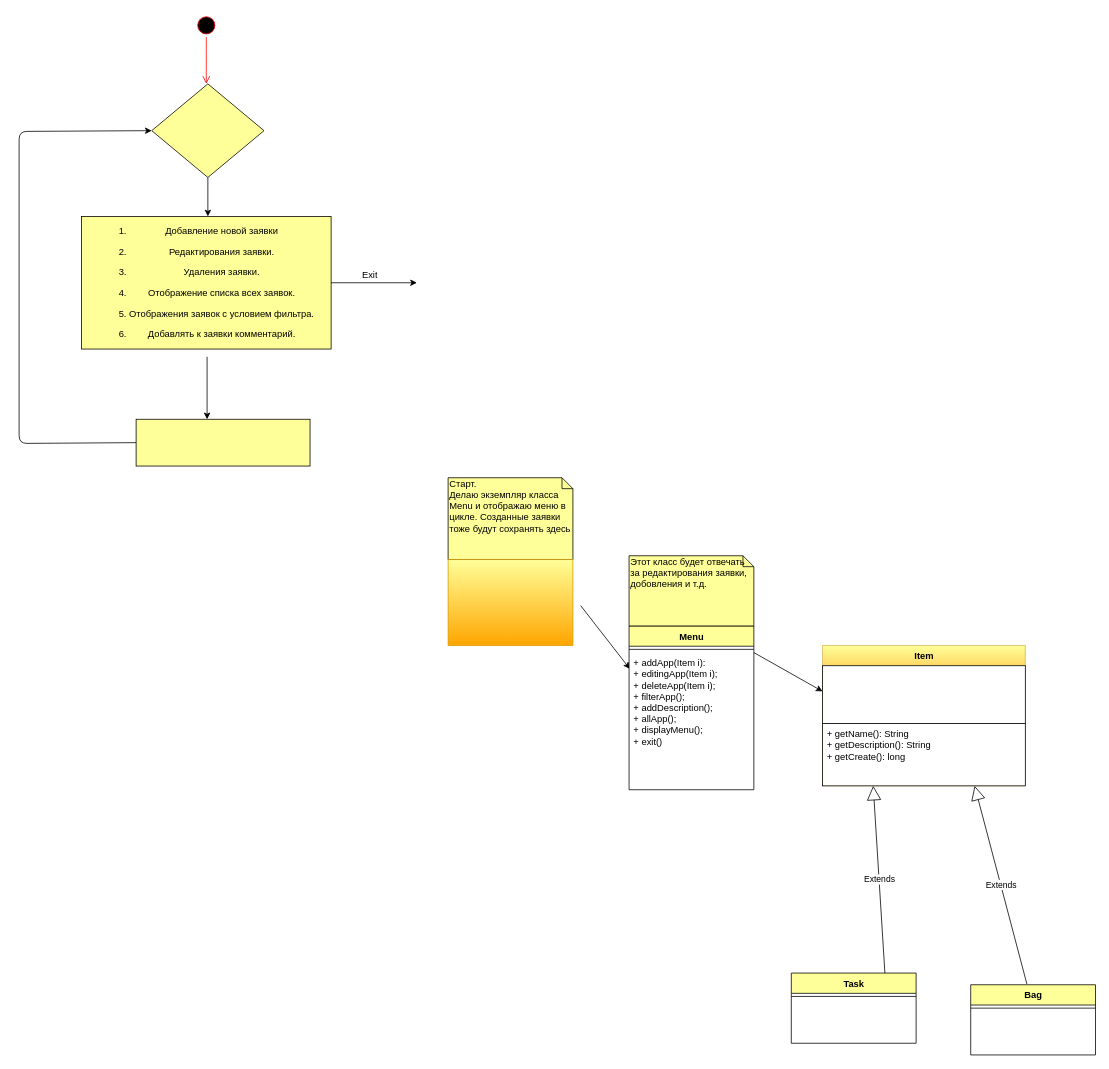
The diagram is 1109 pixels wide and 1069 high, and some of its shapes have lost their labels. The centre of each missing label's shape, as x and y in pixels:
"+ name: String + description: String + timeCreate: long + comment: String" belongs at pixel 923 694.
"Tracker + items: Item[ ] + menu : Menu + menu.displayMenu()" belongs at pixel 510 602.
"Отображение меню" belongs at pixel 207 130.
"Сохраняем в Tracker" belongs at pixel 222 442.
